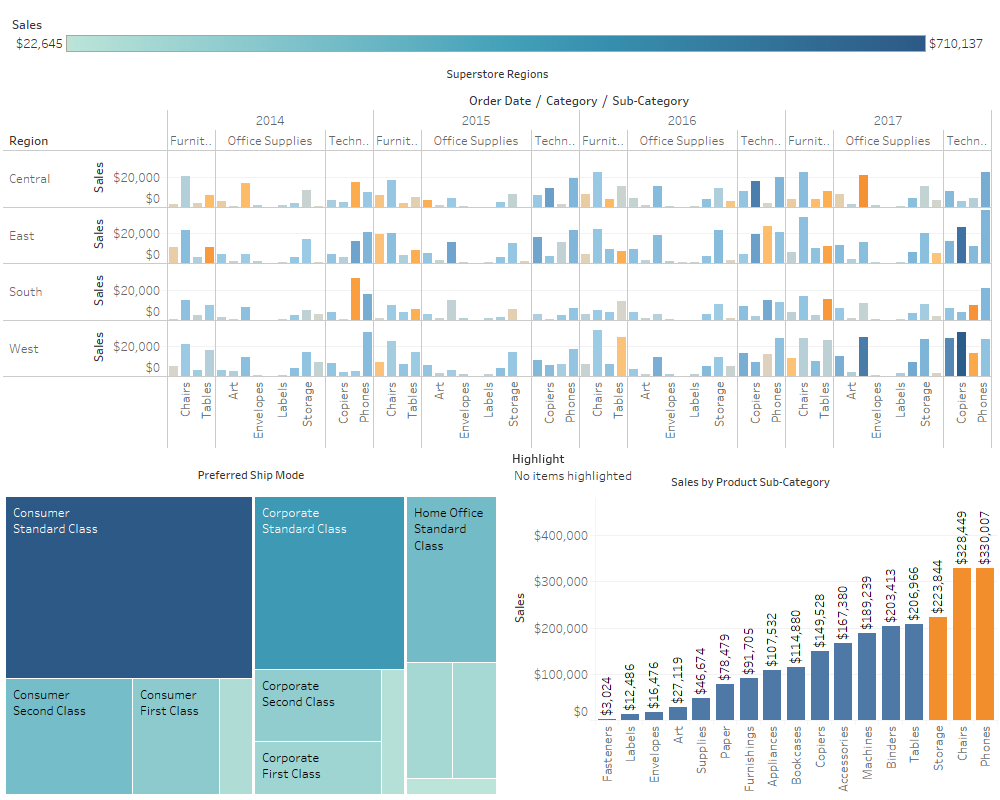

The page's visual inventory and layout, read from the dashboard file:
{"tool":"tableau","page":{"name":"Superstore Analysis","canvas":[1000,800],"ordinal":0},"visuals":[{"type":"worksheet","box":[0,0,1000,800]},{"type":"worksheet","param":"horz","box":[8,8,984,784]},{"type":"worksheet","param":"vert","box":[8,8,984,784]},{"type":"worksheet","title":"Ship Mode","mark":"Automatic","param":"[Sample - Superstore].[sum:Sales:qk]","box":[8,8,984,65]},{"type":"worksheet","title":"Sales by Product/Region","mark":"Automatic","rows":["Region","Sales"],"cols":["Order Date","Category","Sub-Category"],"box":[3,60,989,388]},{"type":"worksheet","title":"Ship Mode","mark":"Automatic","param":"[Sample - Superstore].[none:State:nk]","box":[512,449,160,241]},{"type":"worksheet","title":"Ship Mode","mark":"Automatic","box":[0,461,502,339]},{"type":"worksheet","title":"Sales Sub-Categories","mark":"Automatic","rows":["Sales"],"cols":["Sub-Category"],"box":[504,468,493,332]}]}

Visuals, with their boxes in screenshot pixels (x1, y1, x2, y2), scaled from the page's 1000x800 canvas onto the 1000x800 screenshot:
worksheet: region(0, 0, 999, 799)
worksheet: region(8, 8, 992, 792)
worksheet: region(8, 8, 992, 792)
"Ship Mode" worksheet: region(8, 8, 992, 73)
"Sales by Product/Region" worksheet: region(3, 60, 992, 448)
"Ship Mode" worksheet: region(512, 449, 672, 690)
"Ship Mode" worksheet: region(0, 461, 502, 799)
"Sales Sub-Categories" worksheet: region(504, 468, 997, 799)
